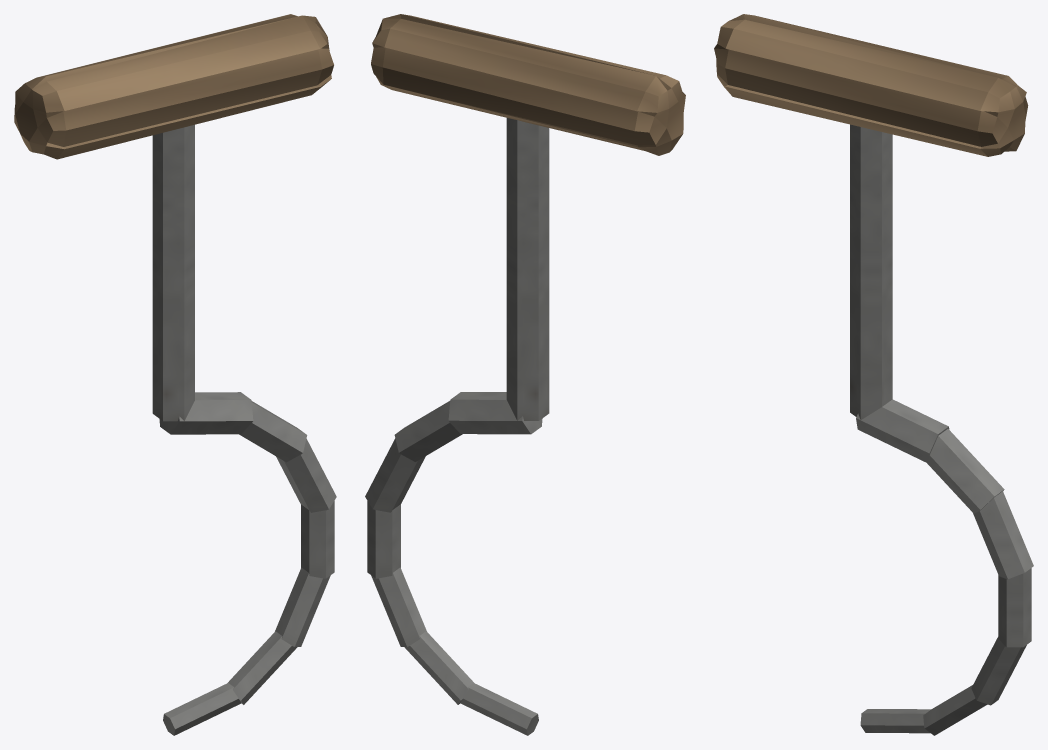
File: hay_hook.glb
The picture shows the model from 3 angles, left to right: view 1: azimuth 30°, elevation 25°; view 2: azimuth 150°, elevation 25°; view 3: azimuth 330°, elevation 25°; orthographic projection.
Parts seen in each view (by area): view 1: HayHook; view 2: HayHook; view 3: HayHook.
Boxes of the visible parts, x1,y1,x2,y2 form: HayHook: (14,14,336,735); HayHook: (365,14,685,735); HayHook: (714,14,1033,735).
Bounding box in the file's own units: 0.1671 × 0.3561 × 0.0395.
2 materials, 2 textured.
